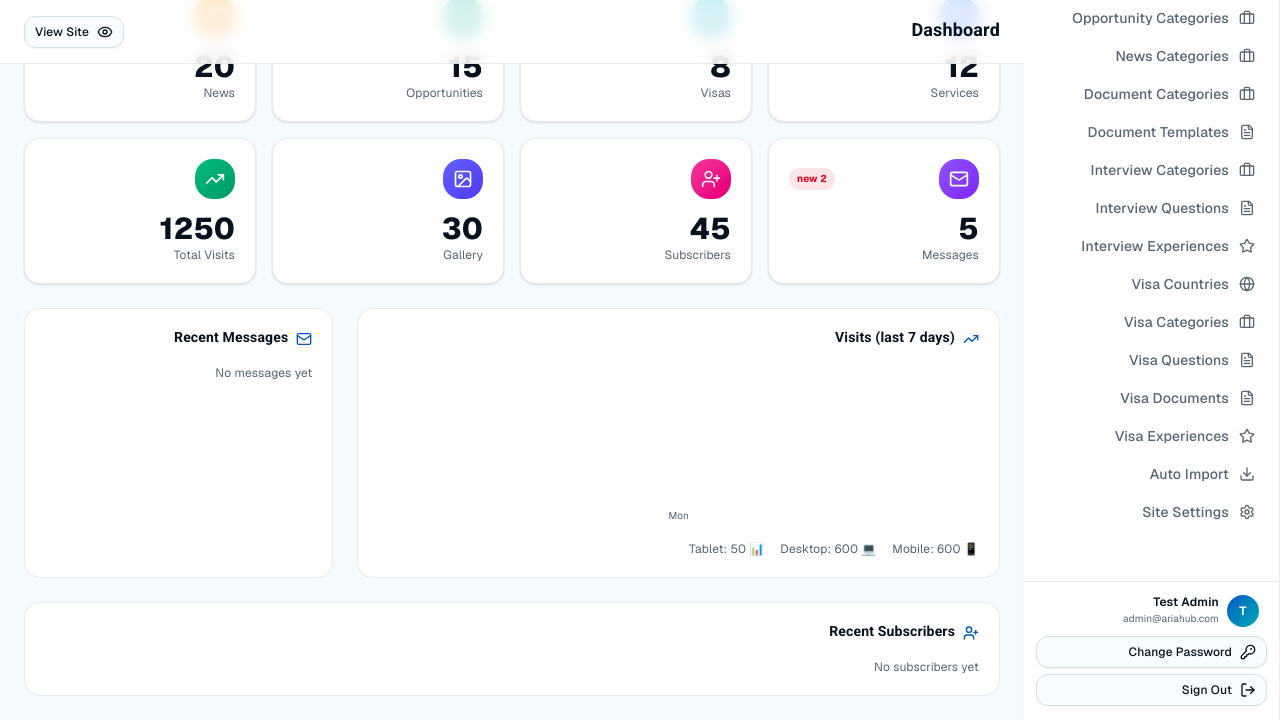
Scenario: Settings Panel Unit Tests › Button Labels - Requirement 7.6 › renders Save Settings button with English translation
(page scrolled)
Check: the text "Site Settings" is shown, box [1142,502,1229,522]
Step 1. Click the button "Site Settings" → (1152, 512), box [1036,494,1267,530]
(page scrolled)
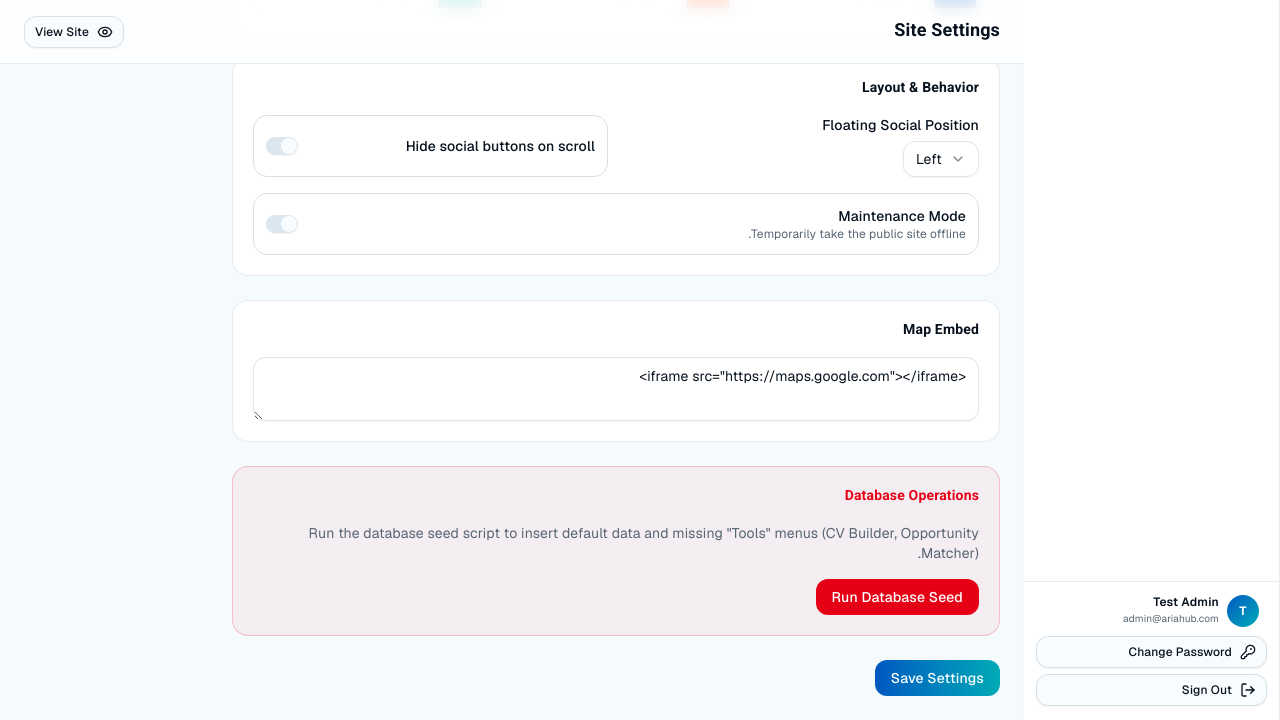
Check: the button "Save Settings" is shown, box [875,660,1000,696]
